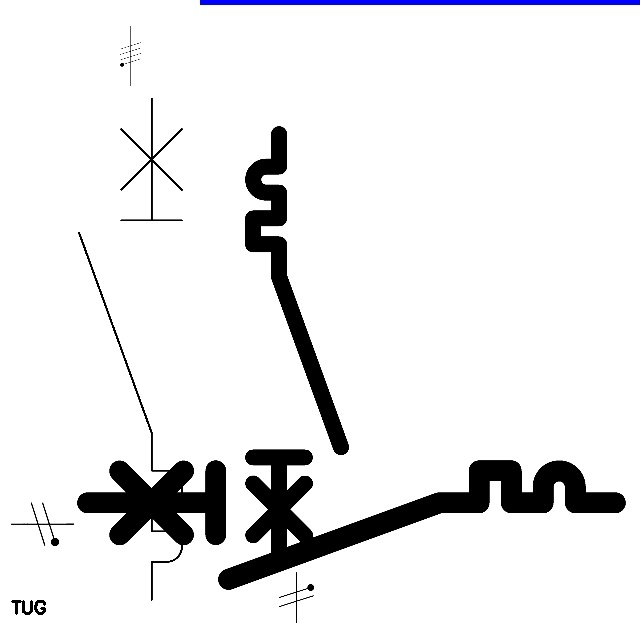interruptor_termomagnetico: (73, 457, 628, 593), (66, 85, 195, 612), (242, 123, 352, 572)
